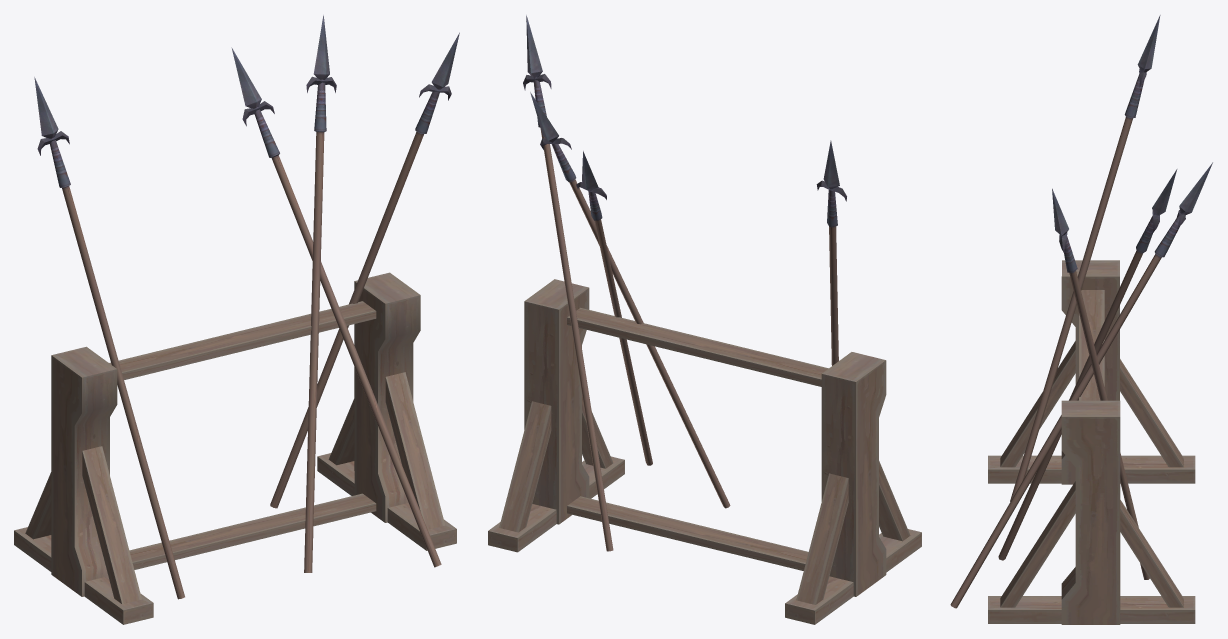
File: Homeworld_Exterior_Md_Decoration_Woodenshelf_03_Vo.fbx
3 renders of one model, left to right at view 1: azimuth 30°, elevation 25°; view 2: azimuth 150°, elevation 25°; view 3: azimuth 270°, elevation 25°, orthographic. The views are drawn at different scales.
Visible parts, largest first — view 1: Homeworld_Exterior_Md_Decoration_Woodenshelf_03_Vo; view 2: Homeworld_Exterior_Md_Decoration_Woodenshelf_03_Vo; view 3: Homeworld_Exterior_Md_Decoration_Woodenshelf_03_Vo.
Part boxes in pixels (x1,y1,x2,y2): Homeworld_Exterior_Md_Decoration_Woodenshelf_03_Vo: (14,15,459,624); Homeworld_Exterior_Md_Decoration_Woodenshelf_03_Vo: (488,15,921,624); Homeworld_Exterior_Md_Decoration_Woodenshelf_03_Vo: (950,15,1212,624).
Bounding box in the file's own units: 1.58 × 1.95 × 1.02.
